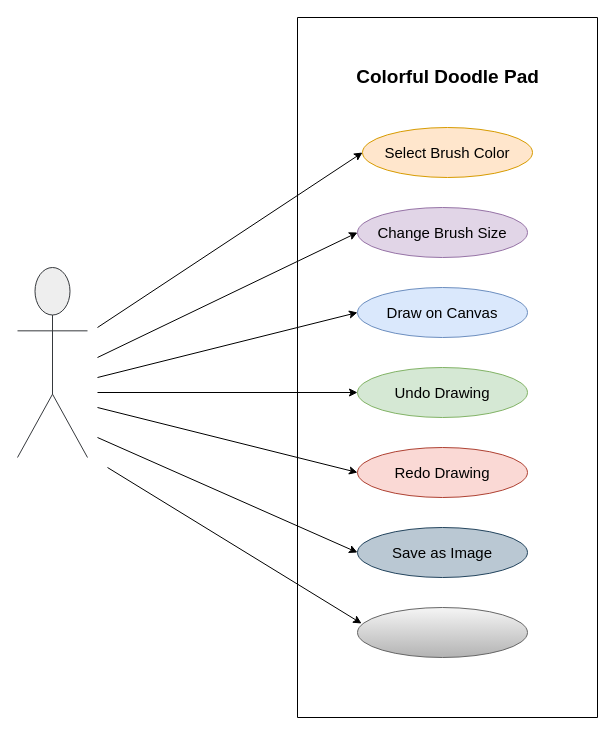
The diagram is 615 pixels wide and 735 high, and some of its shapes have lost their labels. Here are the shapes that lost their labels. From the top down, the box of each, then its label:
(16, 266, 88, 458): User
(356, 606, 528, 658): Clear Canvas
